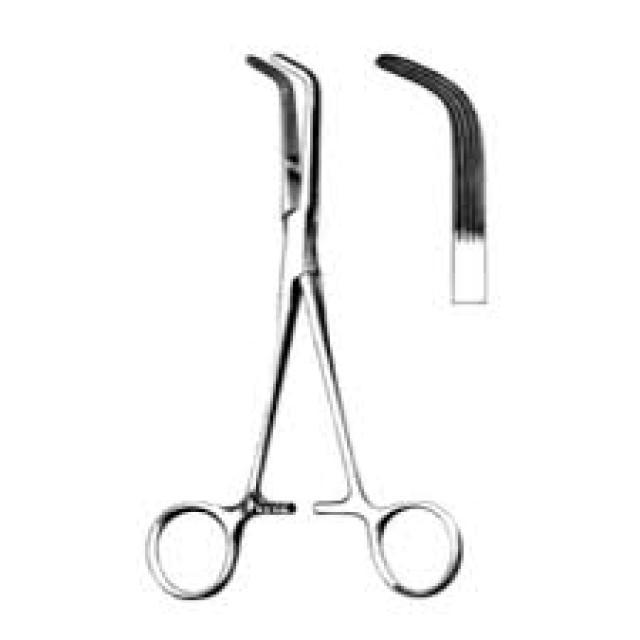Rectangle Cholecystectomy Forceps: (121, 35, 466, 605)
